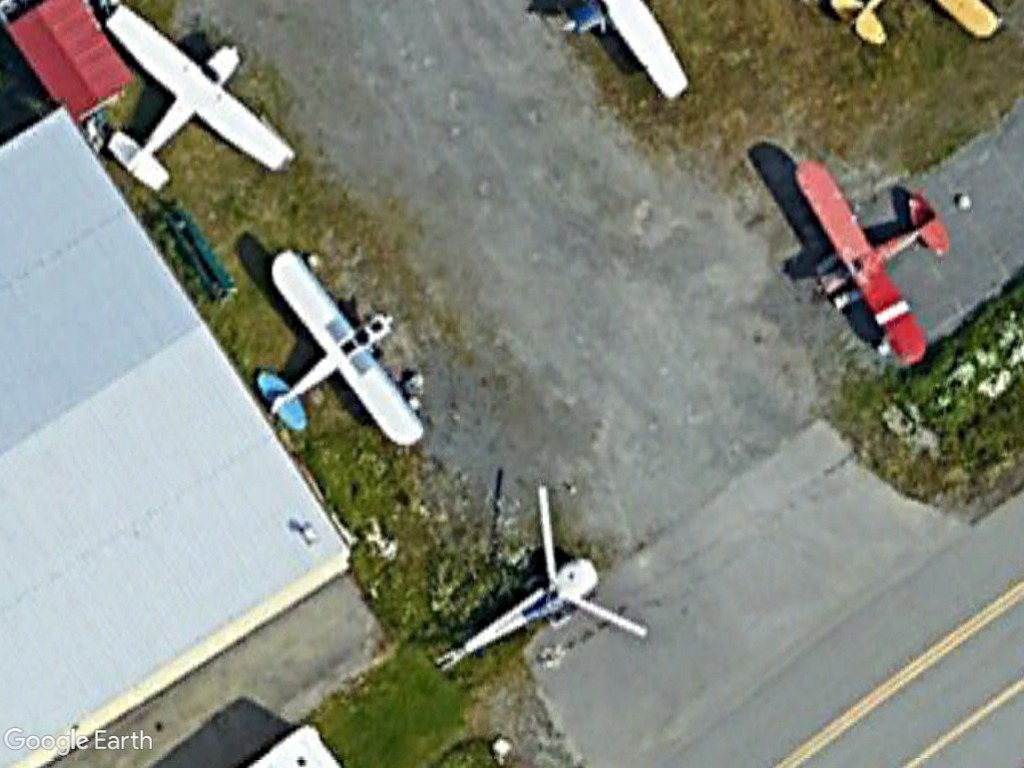helicopter: (423, 466, 658, 676)
trainer: (96, 2, 302, 198), (257, 239, 434, 460), (789, 149, 954, 373)
